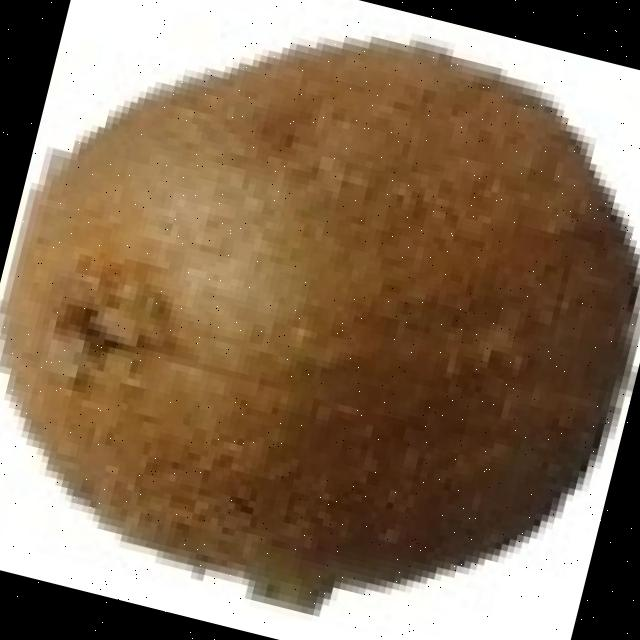kiwi: (0, 31, 629, 593)
